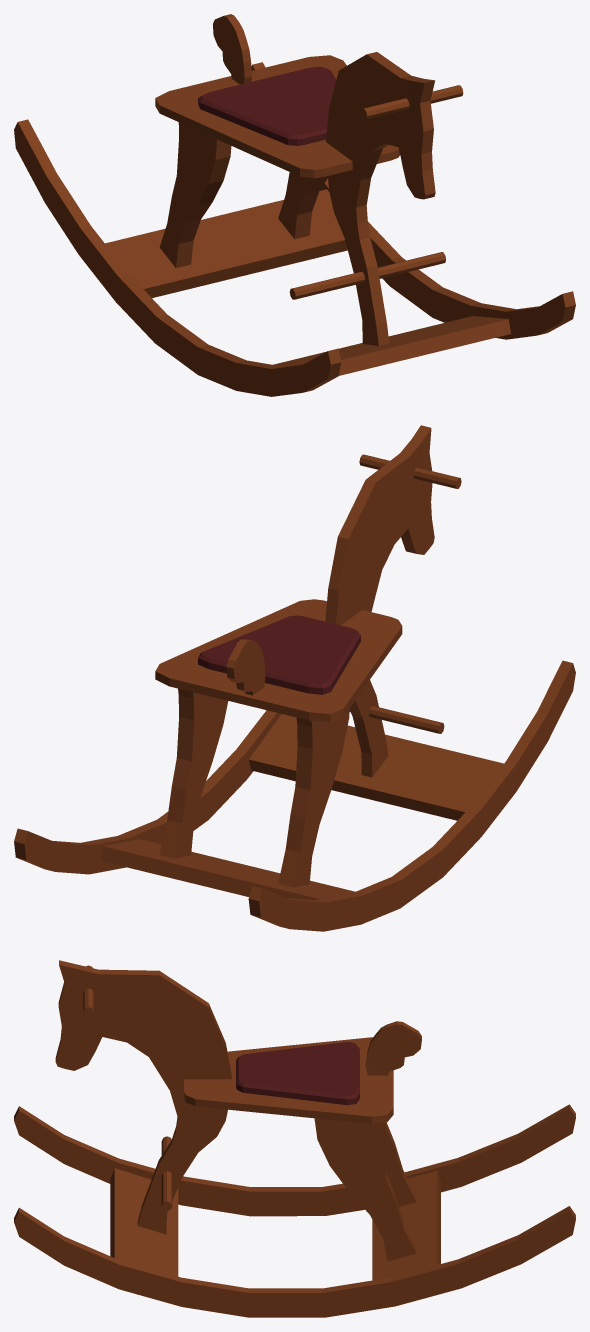
File: CavalloDondolo.fbx
3 views of the same model, one above another, from view 1: azimuth 30°, elevation 25°; view 2: azimuth 150°, elevation 25°; view 3: azimuth 270°, elevation 25° (orthographic). The views are drawn at different scales.
Visible parts, largest first — view 1: GmabaDietro.003; view 2: GmabaDietro.003; view 3: GmabaDietro.003.
Boxes of the visible parts, <box> form: GmabaDietro.003: <box>14,14,575,396</box>; GmabaDietro.003: <box>14,425,575,931</box>; GmabaDietro.003: <box>14,960,575,1317</box>.
Size of the model in its own units: 92.94 by 124 by 208.
